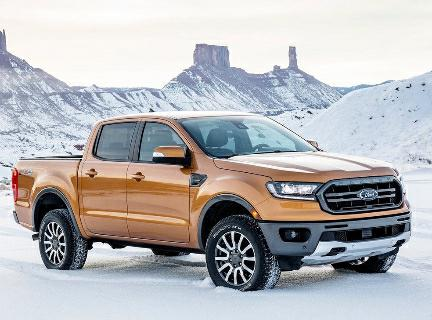福特-Ranger: (8, 108, 419, 295)
